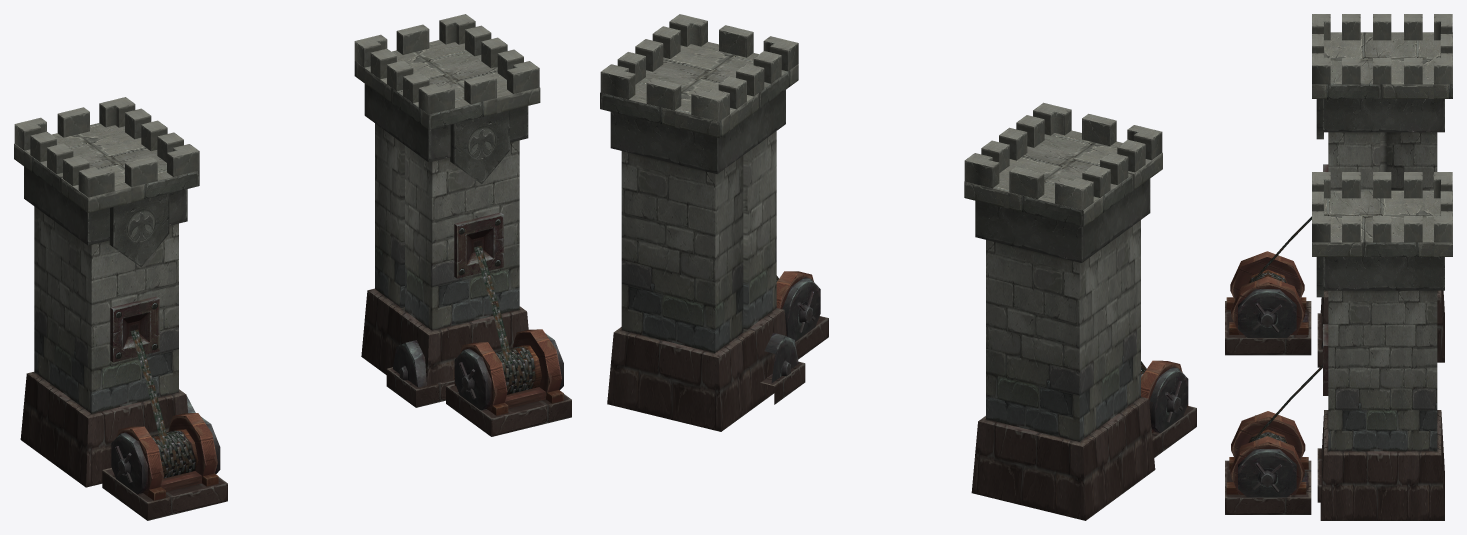
The model's file is building_city_jiguantiemen.FBX.
3 renders of one model, left to right at view 1: azimuth 30°, elevation 25°; view 2: azimuth 150°, elevation 25°; view 3: azimuth 270°, elevation 25°, orthographic. The views are drawn at different scales.
Parts seen in each view (by area): view 1: building_city_jiguantiemen; view 2: building_city_jiguantiemen; view 3: building_city_jiguantiemen.
Part boxes in pixels (x1,y1,x2,y2): building_city_jiguantiemen: [14, 14, 571, 520]; building_city_jiguantiemen: [600, 14, 1196, 520]; building_city_jiguantiemen: [1225, 14, 1452, 520].
Bounding box in the file's own units: 12.37 × 5.67 × 8.19.
